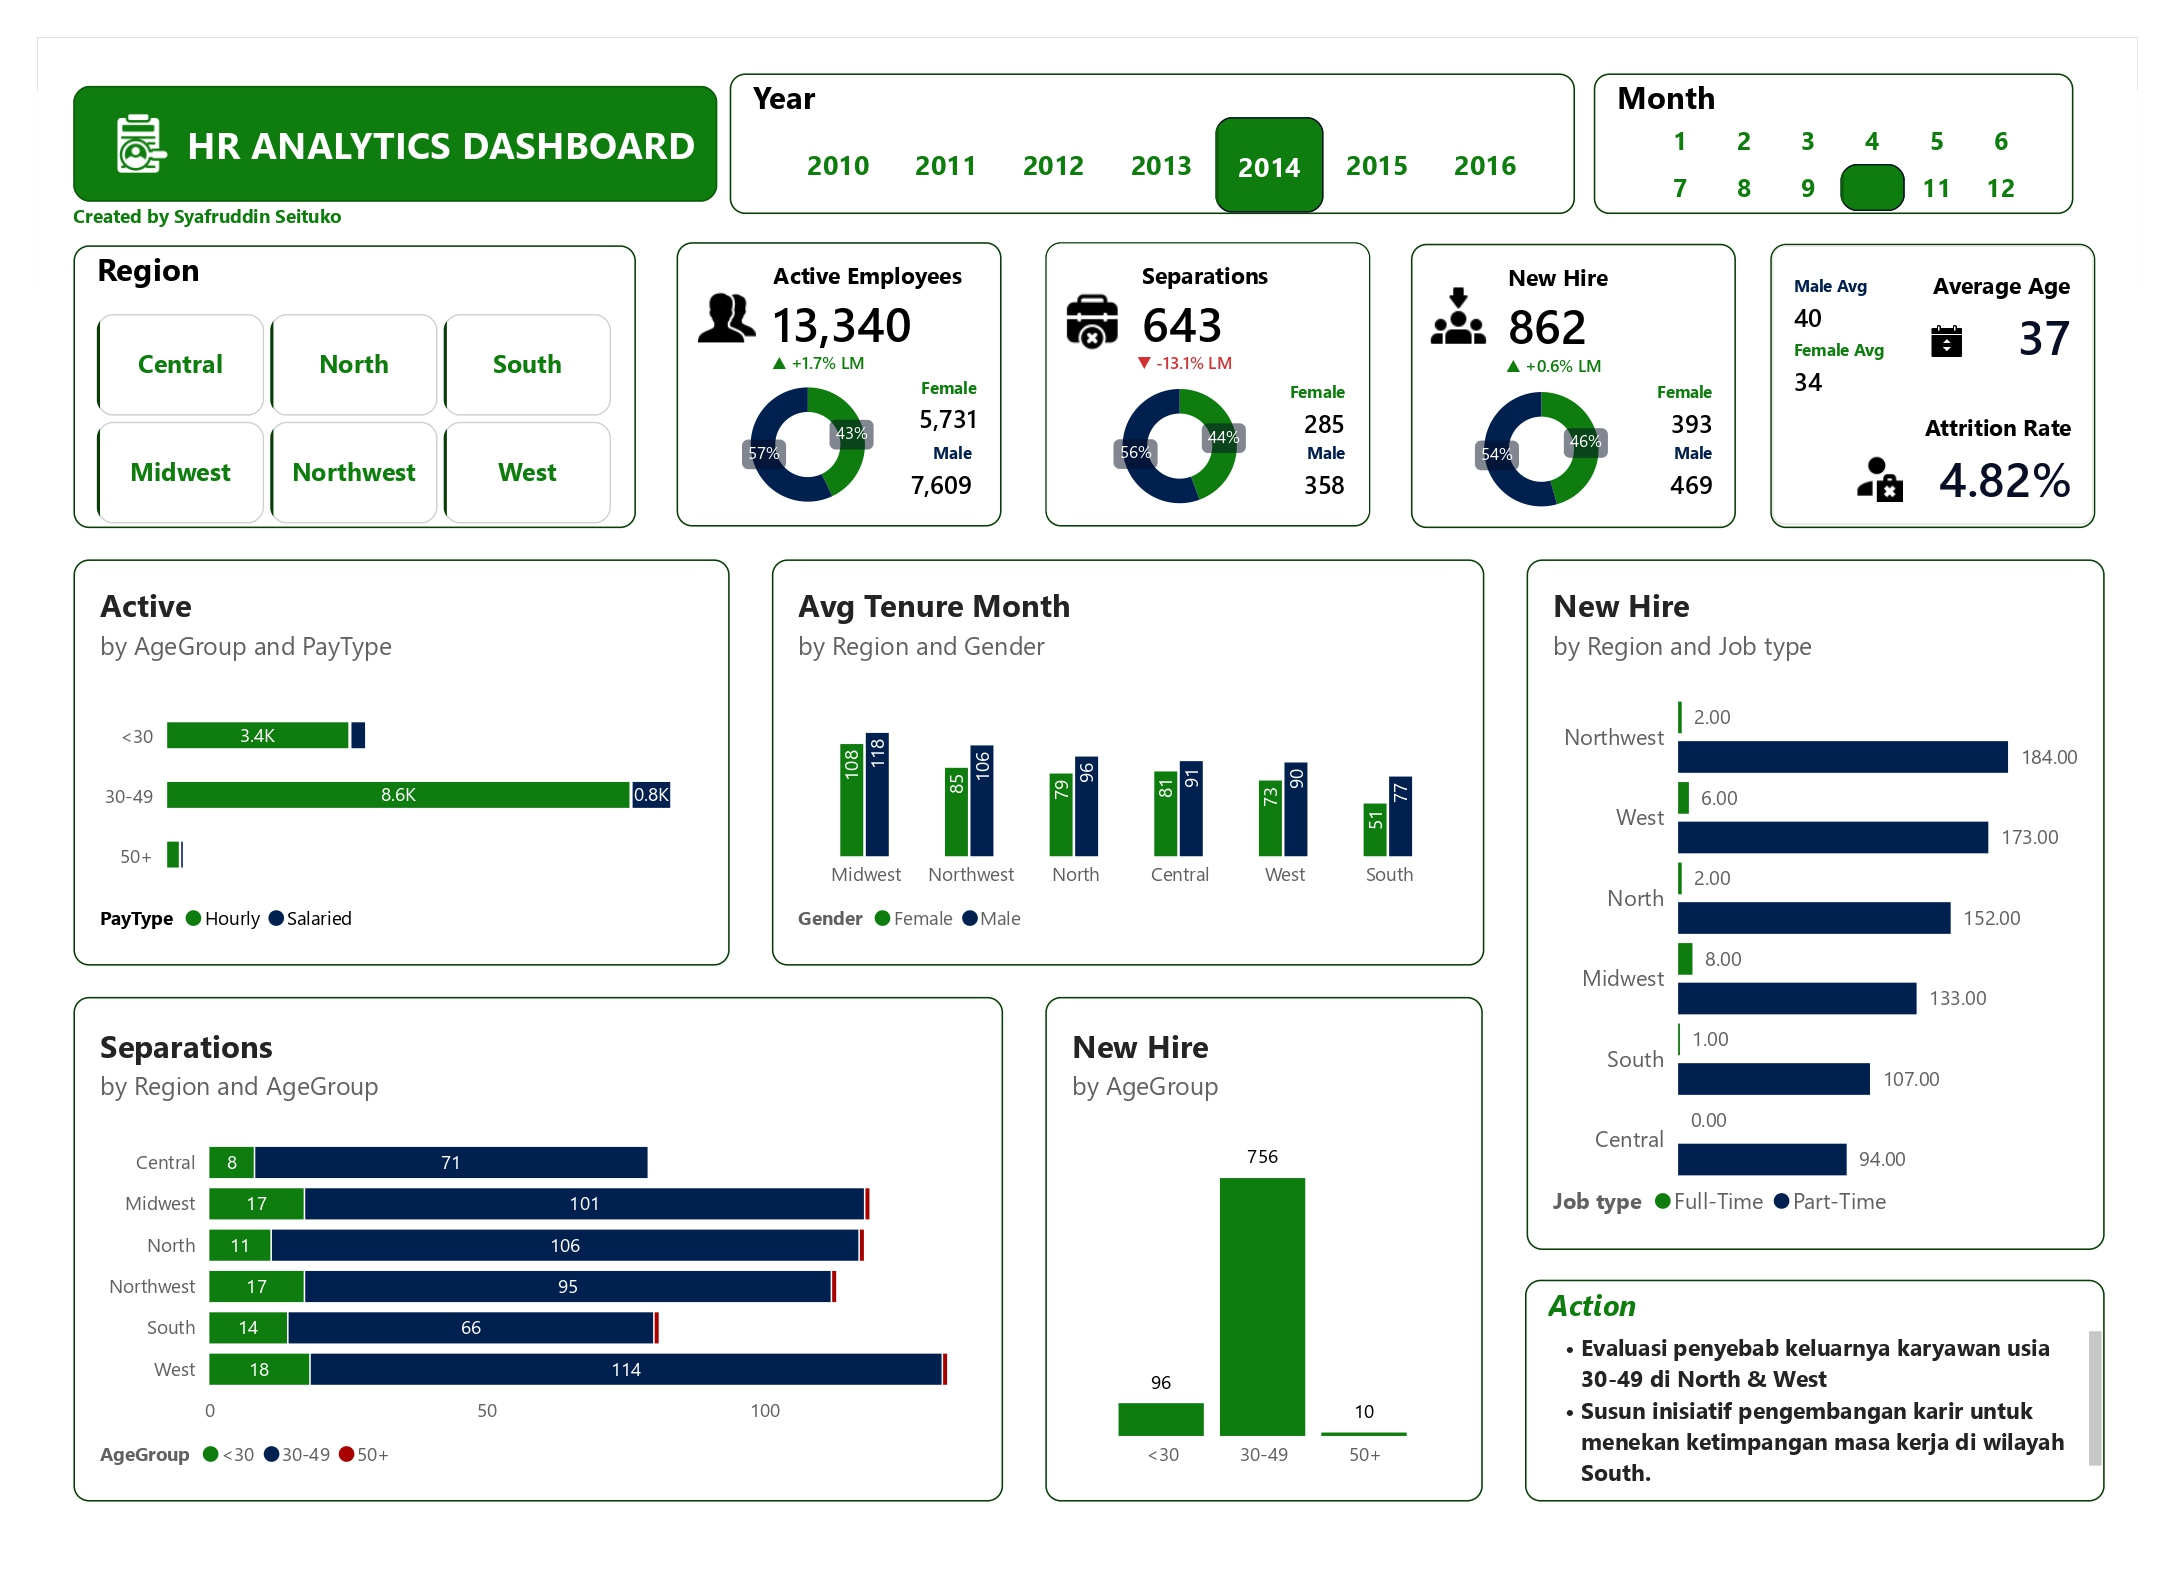

This screenshot's page, from the dashboard's own definition file:
{"tool":"powerbi","page":{"name":"Dashboard","canvas":[1344,960],"ordinal":0},"visuals":[{"type":"cardVisual","fields":{"Data":["_MeasureTable.Separations"]},"box":[645.1,131.1,208.2,181.8],"z":0,"group":"g4"},{"type":"cardVisual","fields":{"Data":["_MeasureTable.Male Avg"]},"box":[1109.2,151,88.3,40.8],"z":0,"group":"g1"},{"type":"barChart","fields":{"Category":["AgeGroup.AgeGroup"],"Series":["PayType.PayType"],"Y":["_MeasureTable.Active"]},"box":[22.9,334.3,420,260],"z":0},{"type":"cardVisual","fields":{"Data":["_MeasureTable.Active"]},"box":[409.4,131.4,208.2,181.8],"z":1000,"group":"g3"},{"type":"cardVisual","fields":{"Data":["_MeasureTable.Female Avg"]},"box":[1109.6,192.2,89.2,41.7],"z":1000,"group":"g1"},{"type":"clusteredColumnChart","title":"Avg Tenure Month","fields":{"Category":["BU.RegionSeq"],"Series":["Gender.Gender"],"Y":["_MeasureTable.Avg Tenure Month"]},"box":[470,334.4,455.6,260],"z":1000},{"type":"clusteredBarChart","title":"New Hire","fields":{"Category":["BU.RegionSeq"],"Series":["FP.Job type"],"Y":["_MeasureTable.New Hire"]},"box":[952.9,334.3,370,441.4],"z":2000},{"type":"cardVisual","fields":{"Data":["_MeasureTable.New Hire"]},"box":[878.8,131.9,208.2,181.8],"z":3000,"group":"g5"},{"type":"columnChart","fields":{"Category":["AgeGroup.AgeGroup"],"Y":["_MeasureTable.New Hire"]},"box":[645.1,614.4,280.3,322.6],"z":3000},{"type":"cardVisual","fields":{"Data":["_MeasureTable.Average Age"]},"box":[1109.1,131.8,208.3,181.7],"z":4000,"group":"g2"},{"type":"barChart","fields":{"Category":["BU.RegionSeq"],"Series":["AgeGroup.AgeGroup"],"Y":["_MeasureTable.Separations"]},"box":[22.9,614.3,595,322.5],"z":4000},{"type":"advancedSlicerVisual","title":"Region","fields":{"Values":["BU.RegionSeq"]},"box":[22.9,132.5,360,181.4],"z":5000},{"type":"cardVisual","fields":{"Data":["_MeasureTable.Male Actives"]},"box":[540,258,78,40.7],"z":5000,"group":"g3"},{"type":"advancedSlicerVisual","title":"Year","fields":{"Values":["Date.Year"]},"box":[442.9,22.9,541.4,90],"z":6000},{"type":"shape","box":[22.9,31.4,411.7,73.3],"z":7000},{"type":"group","id":"g1","title":"Group 4","box":[1109.2,151,89.6,82.9],"z":7000,"group":"g2"},{"type":"advancedSlicerVisual","title":"Month","fields":{"Values":["Date.MonthNumber"]},"box":[995.7,22.9,307.1,90],"z":8000},{"type":"cardVisual","fields":{"Data":["_MeasureTable.Male Separations"]},"box":[774.6,258.5,77.7,42.3],"z":8000,"group":"g4"},{"type":"cardVisual","fields":{"Data":["_MeasureTable.Female Actives"]},"box":[528.7,216.7,88.7,41.3],"z":9000,"group":"g3"},{"type":"shape","title":"Action","box":[952.3,794.9,370.6,142.1],"z":9000},{"type":"cardVisual","fields":{"Data":["_MeasureTable.Male New Hires"]},"box":[1003.9,257.7,83.1,43.1],"z":10000,"group":"g5"},{"type":"textbox","box":[965.8,827.5,355.2,109.4],"z":10000},{"type":"group","id":"g2","title":"Group 1","box":[1109.1,131.8,209.2,181.7],"z":11000},{"type":"image","box":[45.5,46.4,43.6,42.7],"z":12000},{"type":"group","id":"g3","title":"Group 2","box":[409.4,131.4,208.6,181.8],"z":13000},{"type":"cardVisual","fields":{"Data":["_MeasureTable.Female Separations"]},"box":[774.6,219.2,77.7,41.5],"z":13000,"group":"g4"},{"type":"group","id":"g4","title":"Group 3","box":[645.1,131.1,208.2,181.8],"z":14000},{"type":"cardVisual","fields":{"Data":["_MeasureTable.Female New Hires"]},"box":[997.7,219.2,89.2,38.5],"z":14000,"group":"g5"},{"type":"group","id":"g5","title":"Group 5","box":[878.8,131.9,208.2,181.8],"z":15000},{"type":"textbox","box":[23,104,234,21],"z":16000},{"type":"cardVisual","fields":{"Data":["_MeasureTable.Attrition Rate %"]},"box":[1120.8,234.3,197.5,73.3],"z":16000,"group":"g2"},{"type":"donutChart","fields":{"Series":["Gender.Gender"],"Y":["_MeasureTable.Active"]},"box":[413.4,212.7,160,97],"z":21000,"group":"g3"},{"type":"cardVisual","fields":{"Data":["_MeasureTable.New Hire MOM Label"]},"box":[939.3,200,115.7,22.1],"z":24000,"group":"g5"},{"type":"cardVisual","fields":{"Data":["_MeasureTable.Separations MOM Label"]},"box":[703.9,198.5,115.4,20.8],"z":25000,"group":"g4"},{"type":"donutChart","fields":{"Series":["Gender.Gender"],"Y":["_MeasureTable.Separations"]},"box":[650.8,213.1,160,97],"z":26000,"group":"g4"},{"type":"image","box":[1202.7,183.6,36.4,20.9],"z":27000,"group":"g2"},{"type":"donutChart","fields":{"Series":["Gender.Gender"],"Y":["_MeasureTable.New Hire"]},"box":[881.6,214.6,160.8,97.7],"z":28000,"group":"g5"},{"type":"image","box":[881.4,156.6,53.3,42],"z":29000,"group":"g5"},{"type":"image","box":[651.8,161.8,47.1,39.4],"z":30000,"group":"g4"},{"type":"cardVisual","fields":{"Data":["_MeasureTable.Active MOM Label"]},"box":[470,198.7,115.4,20.8],"z":31000,"group":"g3"},{"type":"image","box":[413.4,160.7,56.7,37],"z":32000,"group":"g3"},{"type":"image","box":[1152.7,263.6,49.1,32.7],"z":33000,"group":"g2"}]}

Visuals, with their boxes on the page's 1344x960 design canvas (x1, y1, x2, y2). These are canvas units, not pixel positions in the 2175x1575 screenshot, which may show the page scaled, cropped or inside an application window:
cardVisual - _MeasureTable.Separations: 645, 131, 853, 313
cardVisual - _MeasureTable.Male Avg: 1109, 151, 1198, 192
barChart - AgeGroup.AgeGroup x PayType.PayType: 23, 334, 443, 594
cardVisual - _MeasureTable.Active: 409, 131, 618, 313
cardVisual - _MeasureTable.Female Avg: 1110, 192, 1199, 234
"Avg Tenure Month" clusteredColumnChart: 470, 334, 926, 594
"New Hire" clusteredBarChart: 953, 334, 1323, 776
cardVisual - _MeasureTable.New Hire: 879, 132, 1087, 314
columnChart - AgeGroup.AgeGroup x _MeasureTable.New Hire: 645, 614, 925, 937
cardVisual - _MeasureTable.Average Age: 1109, 132, 1317, 314
barChart - BU.RegionSeq x AgeGroup.AgeGroup: 23, 614, 618, 937
"Region" advancedSlicerVisual: 23, 132, 383, 314
cardVisual - _MeasureTable.Male Actives: 540, 258, 618, 299
"Year" advancedSlicerVisual: 443, 23, 984, 113
shape: 23, 31, 435, 105
"Group 4" group: 1109, 151, 1199, 234
"Month" advancedSlicerVisual: 996, 23, 1303, 113
cardVisual - _MeasureTable.Male Separations: 775, 258, 852, 301
cardVisual - _MeasureTable.Female Actives: 529, 217, 617, 258
"Action" shape: 952, 795, 1323, 937
cardVisual - _MeasureTable.Male New Hires: 1004, 258, 1087, 301
textbox: 966, 828, 1321, 937
"Group 1" group: 1109, 132, 1318, 314
image: 46, 46, 89, 89
"Group 2" group: 409, 131, 618, 313
cardVisual - _MeasureTable.Female Separations: 775, 219, 852, 261
"Group 3" group: 645, 131, 853, 313
cardVisual - _MeasureTable.Female New Hires: 998, 219, 1087, 258
"Group 5" group: 879, 132, 1087, 314
textbox: 23, 104, 257, 125
cardVisual - _MeasureTable.Attrition Rate %: 1121, 234, 1318, 308
donutChart - Gender.Gender x _MeasureTable.Active: 413, 213, 573, 310
cardVisual - _MeasureTable.New Hire MOM Label: 939, 200, 1055, 222
cardVisual - _MeasureTable.Separations MOM Label: 704, 198, 819, 219
donutChart - Gender.Gender x _MeasureTable.Separations: 651, 213, 811, 310
image: 1203, 184, 1239, 204
donutChart - Gender.Gender x _MeasureTable.New Hire: 882, 215, 1042, 312
image: 881, 157, 935, 199
image: 652, 162, 699, 201
cardVisual - _MeasureTable.Active MOM Label: 470, 199, 585, 220
image: 413, 161, 470, 198
image: 1153, 264, 1202, 296
